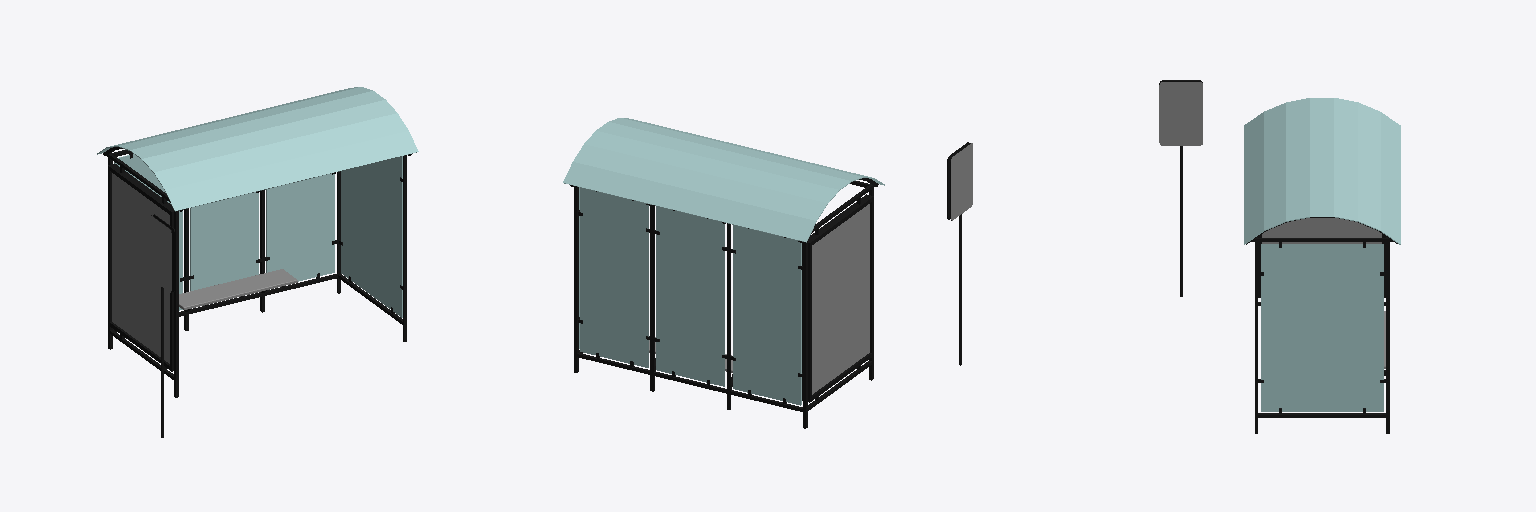
The model's file is bustop.obj.
3 views of the same model, side by side, from view 1: azimuth 30°, elevation 25°; view 2: azimuth 150°, elevation 25°; view 3: azimuth 270°, elevation 25° (orthographic).
Visible parts, largest first — view 1: bus_stop_Mesh, sign_Mesh.001; view 2: bus_stop_Mesh, sign_Mesh.001; view 3: bus_stop_Mesh, sign_Mesh.001.
Part boxes in pixels (bbox=[...]): bus_stop_Mesh: bbox=[97, 87, 418, 397]; sign_Mesh.001: bbox=[150, 214, 174, 437]; bus_stop_Mesh: bbox=[563, 118, 884, 428]; sign_Mesh.001: bbox=[947, 142, 972, 365]; bus_stop_Mesh: bbox=[1244, 98, 1400, 433]; sign_Mesh.001: bbox=[1159, 80, 1202, 296].
Size of the model in its own units: 3.8 by 2.76 by 2.75.